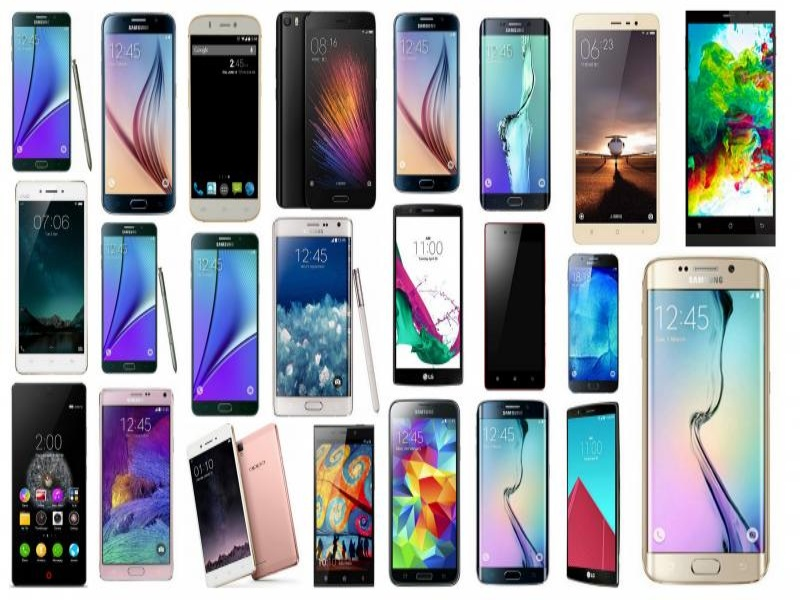cellphone: (643, 253, 775, 590), (682, 7, 780, 250), (566, 10, 662, 248), (274, 8, 382, 212), (5, 380, 92, 592), (272, 216, 357, 420), (185, 9, 264, 225), (99, 10, 180, 218), (96, 384, 176, 585), (474, 15, 552, 213), (13, 178, 89, 377), (386, 396, 463, 590), (473, 398, 552, 587), (390, 202, 465, 388), (188, 230, 260, 419), (390, 8, 461, 196), (306, 421, 377, 590), (563, 400, 625, 593), (480, 218, 548, 393), (9, 7, 74, 175), (97, 222, 160, 378), (562, 252, 622, 397)
